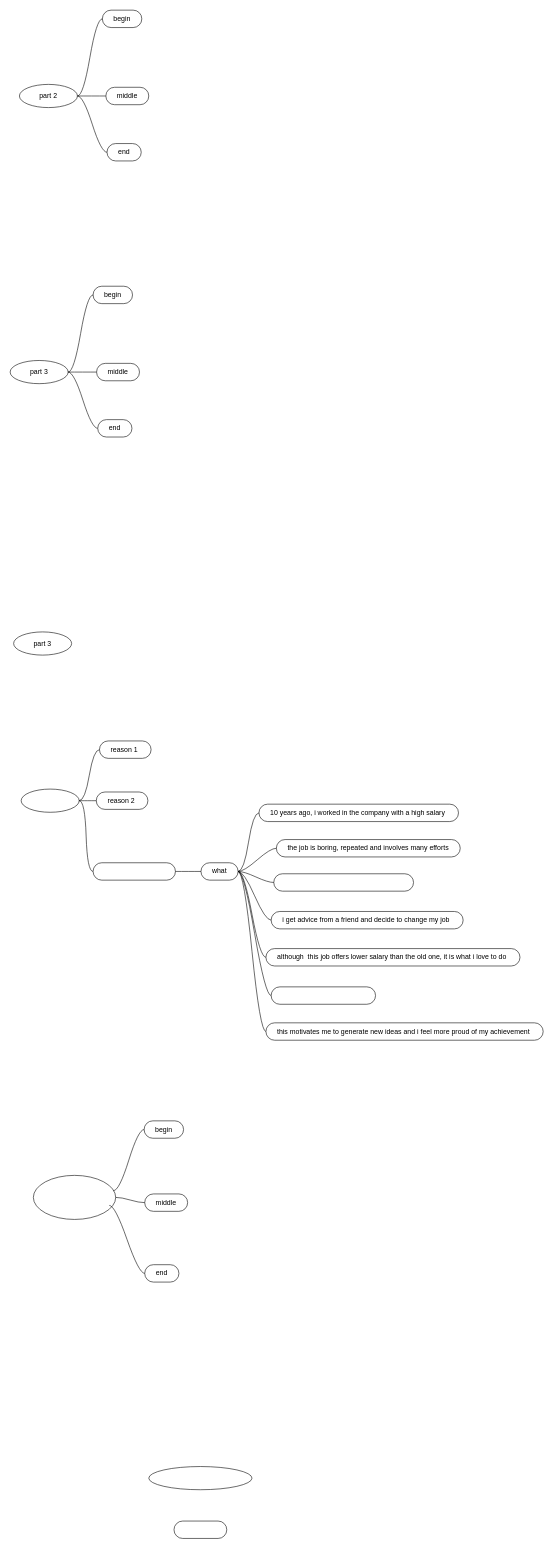
Image size: 553x1549. Some labels were removed from this diagram. Each missing label, with the centre of its shape:
"agree" goes at pixel 50 800.
"Ask a meaningful question" goes at pixel 200 1478.
"example (reason 1)" goes at pixel 134 871.
"feedback about computer software" goes at pixel 74 1197.
"i feel happier to do my job" goes at pixel 323 995.
"i get tired and don't want to go to work" goes at pixel 343 882.
"Sub Topic" goes at pixel 200 1529.
